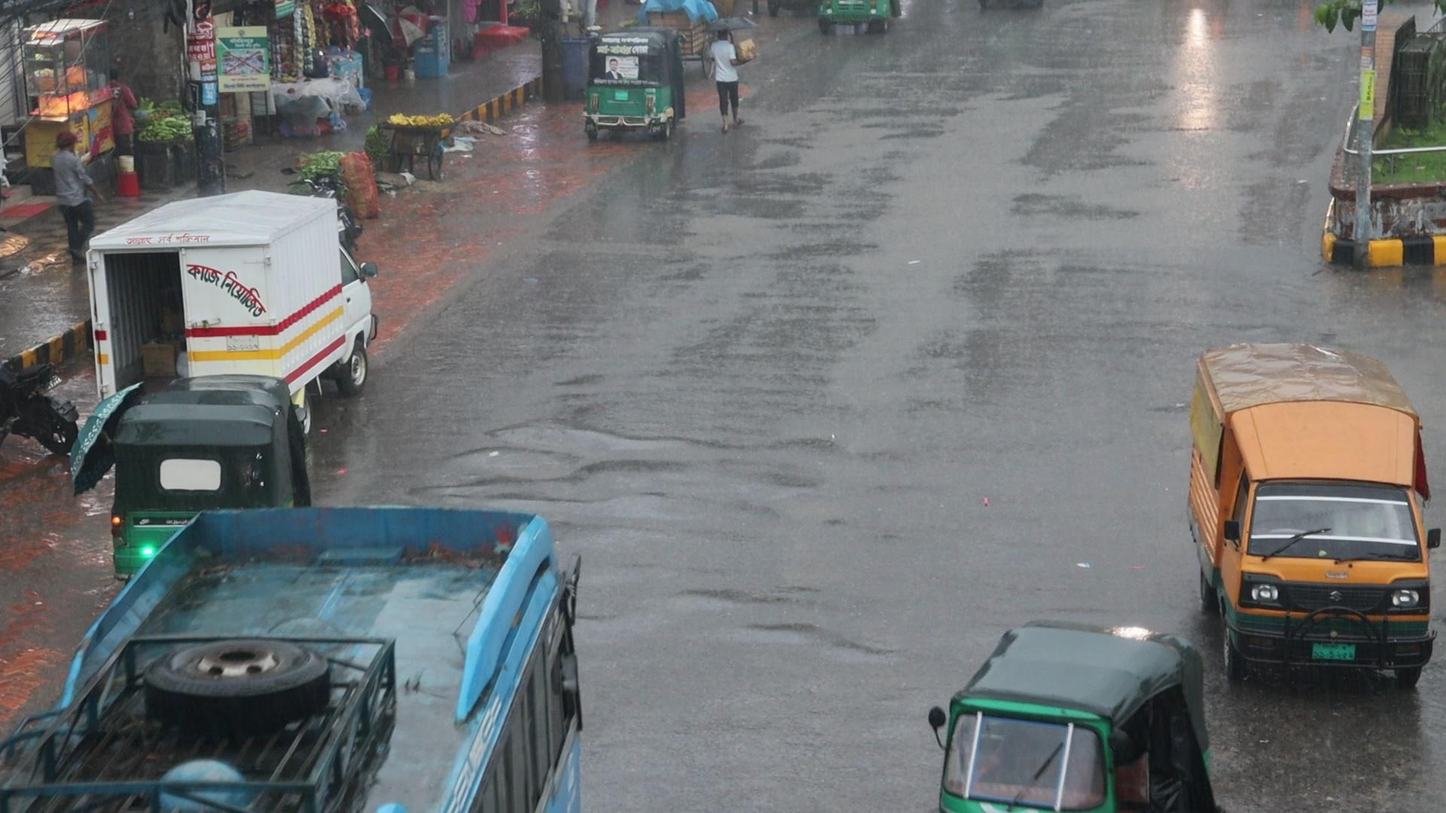Truck: (1188, 334, 1440, 708)
